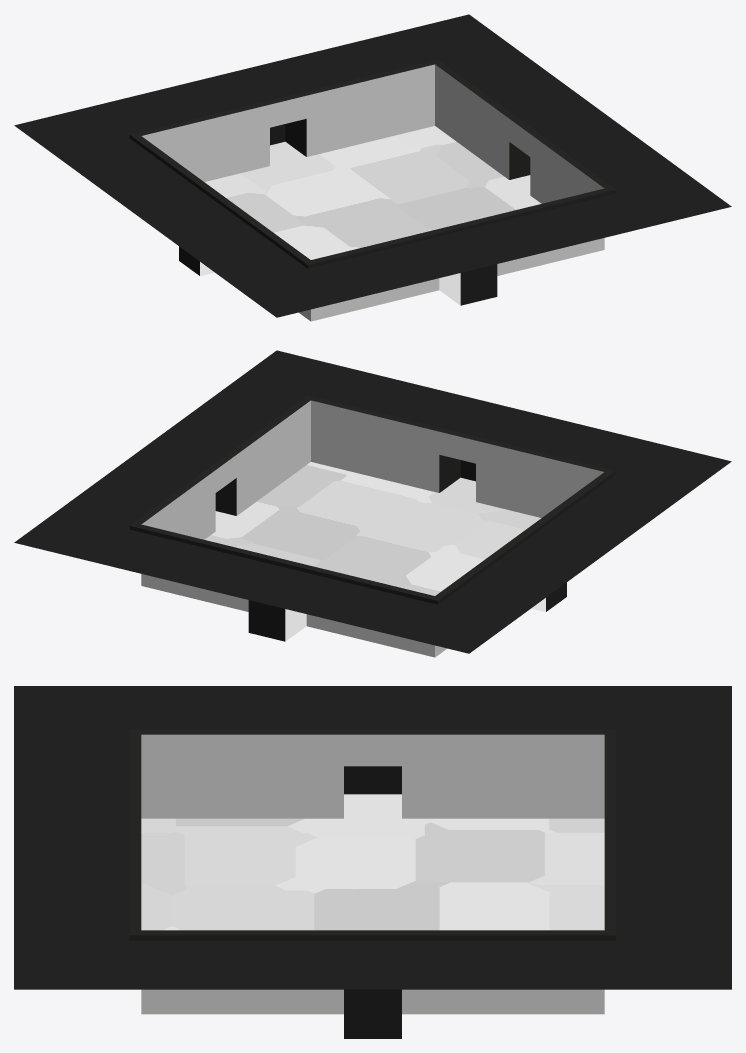
The model's file is Room1x1x4.fbx.
3 renders of one model, top to bottom at view 1: azimuth 30°, elevation 25°; view 2: azimuth 150°, elevation 25°; view 3: azimuth 270°, elevation 25°, orthographic. The views are drawn at different scales.
Visible parts, largest first — view 1: Room_1x1x4; view 2: Room_1x1x4; view 3: Room_1x1x4.
Boxes of the visible parts, box(x1,y1,x2,y2) form: Room_1x1x4: box(14, 14, 731, 321); Room_1x1x4: box(14, 350, 731, 657); Room_1x1x4: box(14, 686, 731, 1038).
Bounding box in the file's own units: 62 × 62 × 8.
